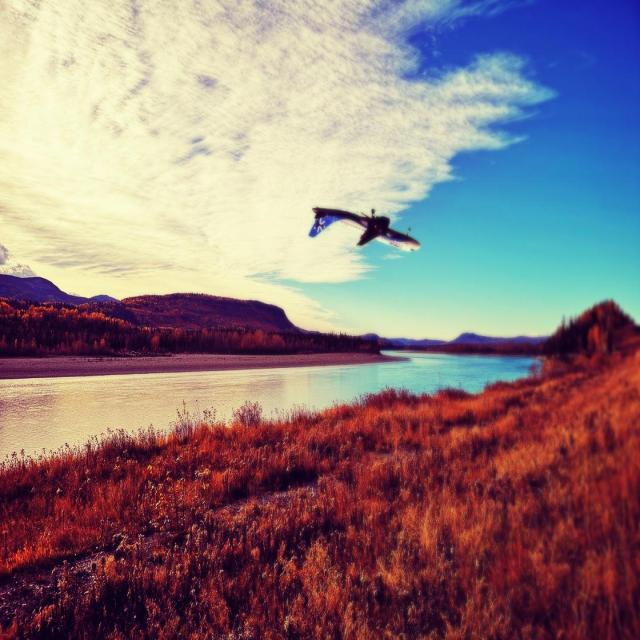airplane: (308, 205, 420, 252)
